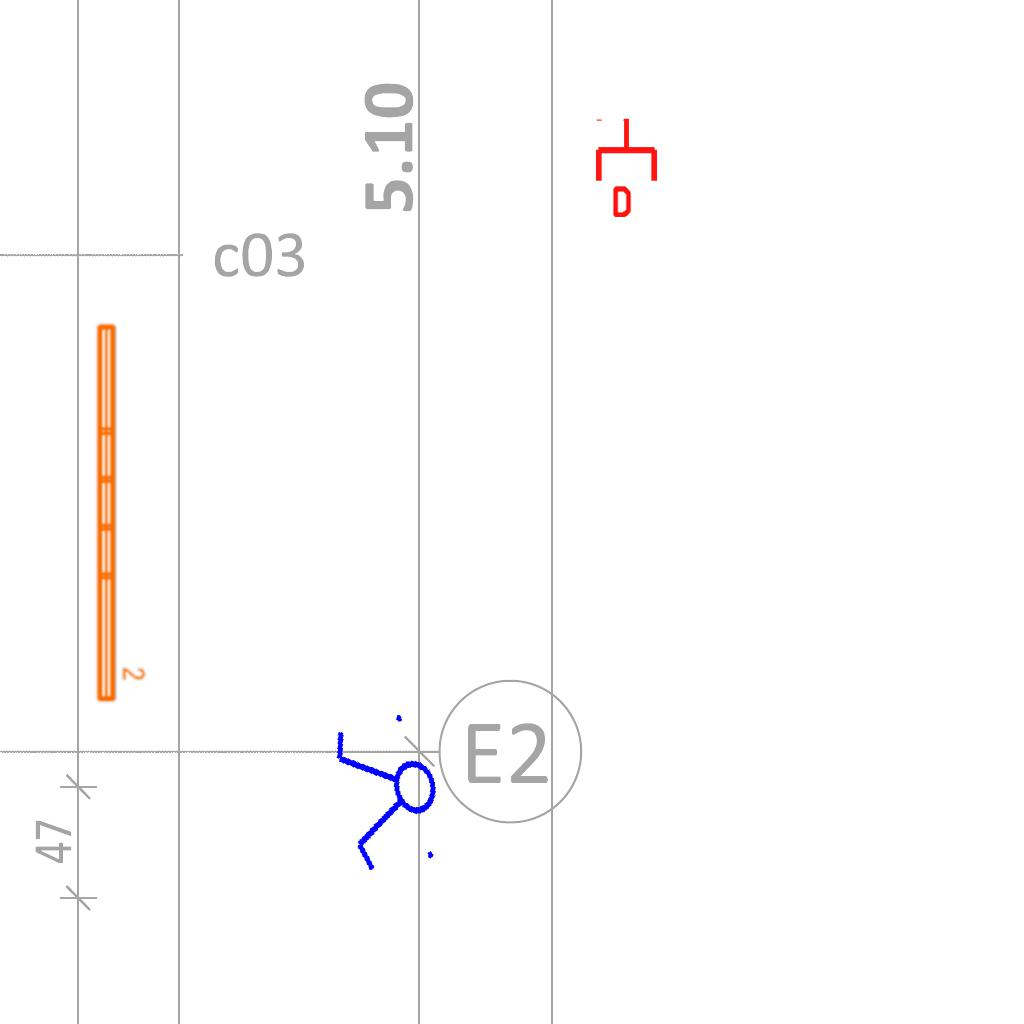Ambulanz_Pendelleuchte_LED: (91, 319, 147, 706)
Datenanschluss_einfach: (592, 117, 661, 217)
Serienschalter: (324, 701, 456, 887)
